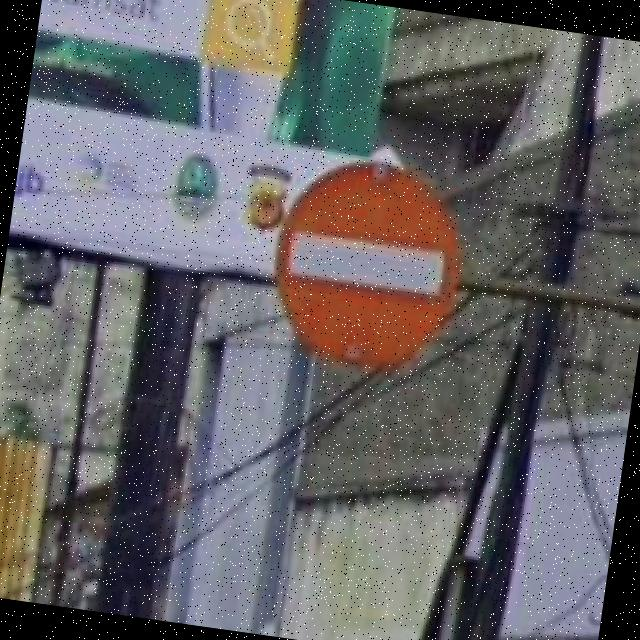Zakaz wjazdu: (264, 150, 472, 380)
